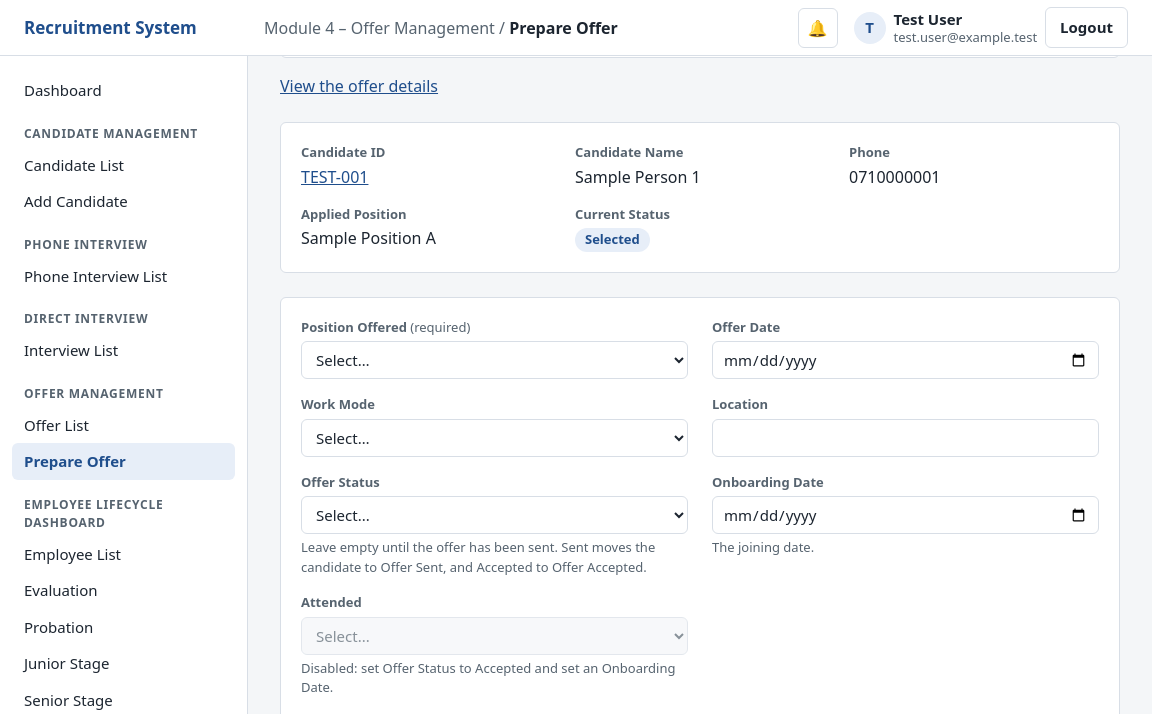
prepare offer › a missing position is stopped before anything is sent
(page scrolled)
Select "Select…" in the dropdown labelled "Position Offered (required)" at (494, 360), box x1=301 y1=341 x2=688 y2=379
(page scrolled)
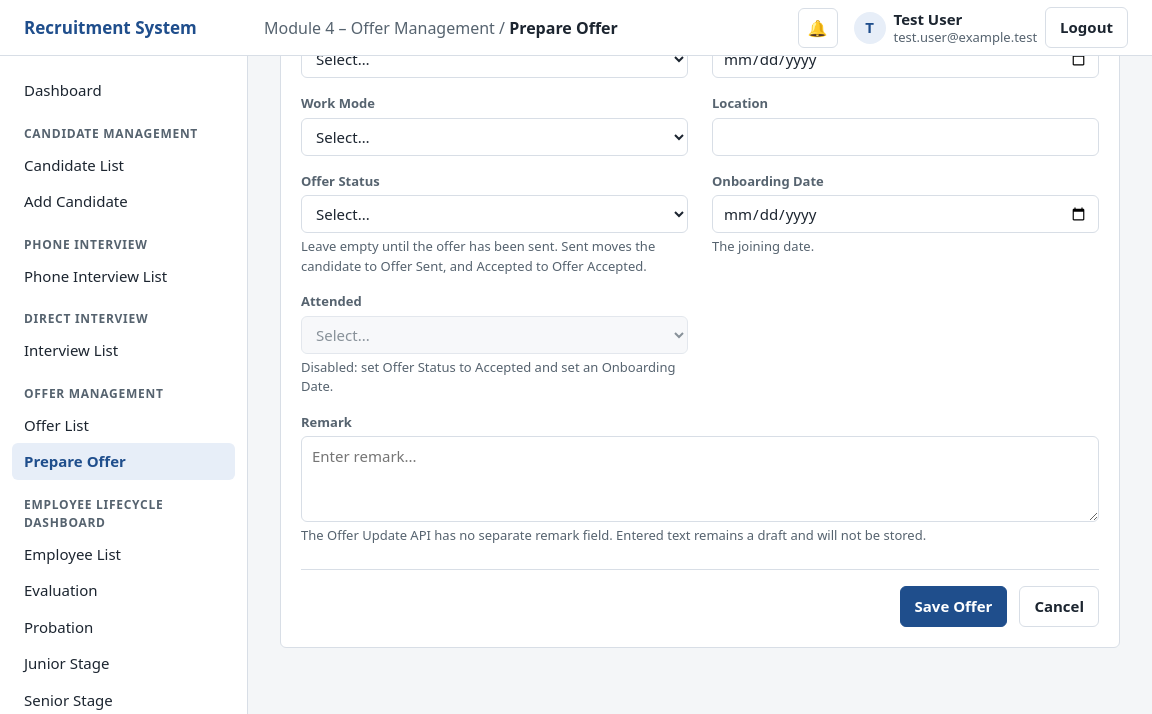
Click the button "Save Offer" at (953, 606), box x1=900 y1=586 x2=1007 y2=626
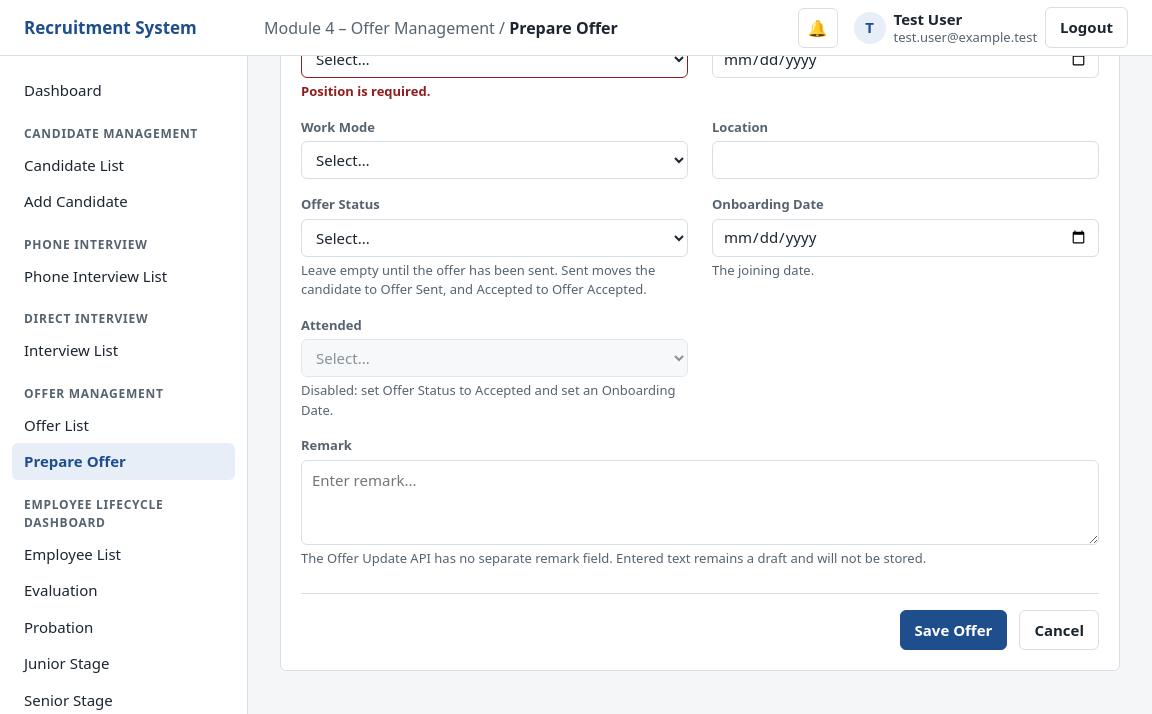
Check: the text "Position is required." is shown, box x1=301 y1=82 x2=430 y2=100
